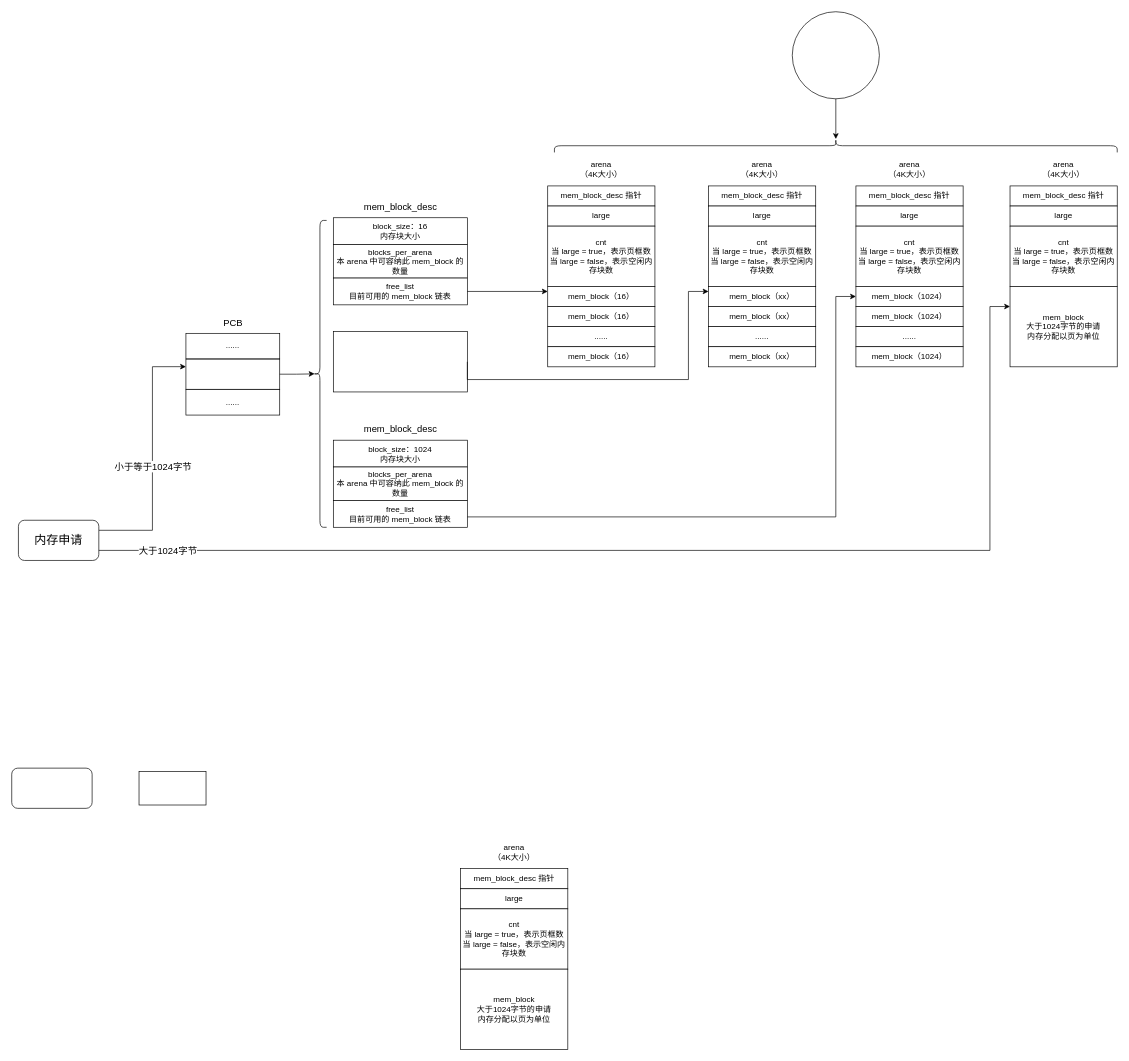
The diagram is 1129 pixels wide and 1061 high, and some of its shapes have lost their labels. The shapes that lost their labels are listed below. From the top down, each one's centre as x and y in pixels, then its label:
the point at 835,55: 页内存 分配池
the point at 232,373: mem_block_desc[7] 内存块描述符数组
the point at 400,361: block_size：32 block_size：64 block_size：128 block_size：256 block_size：512
the point at 51,787: 内存释放
the point at 172,788: mem_block
